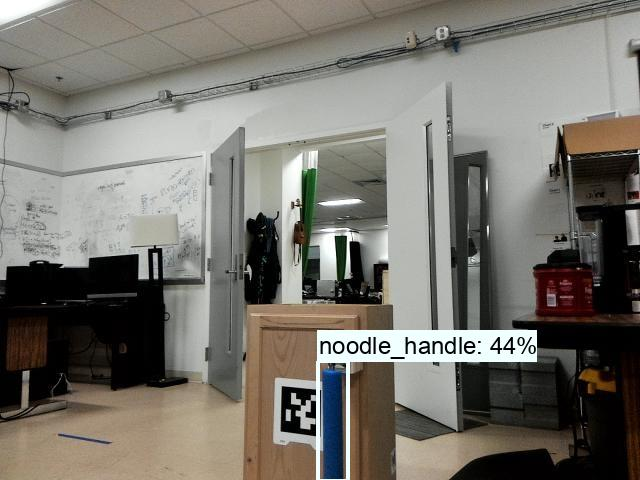noodle_handle: (313, 363, 352, 480)
